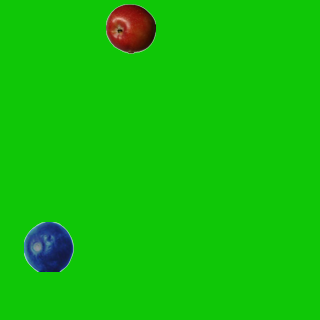Apple Braeburn: (105, 3, 155, 53)
Huckleberry: (23, 221, 73, 271)
